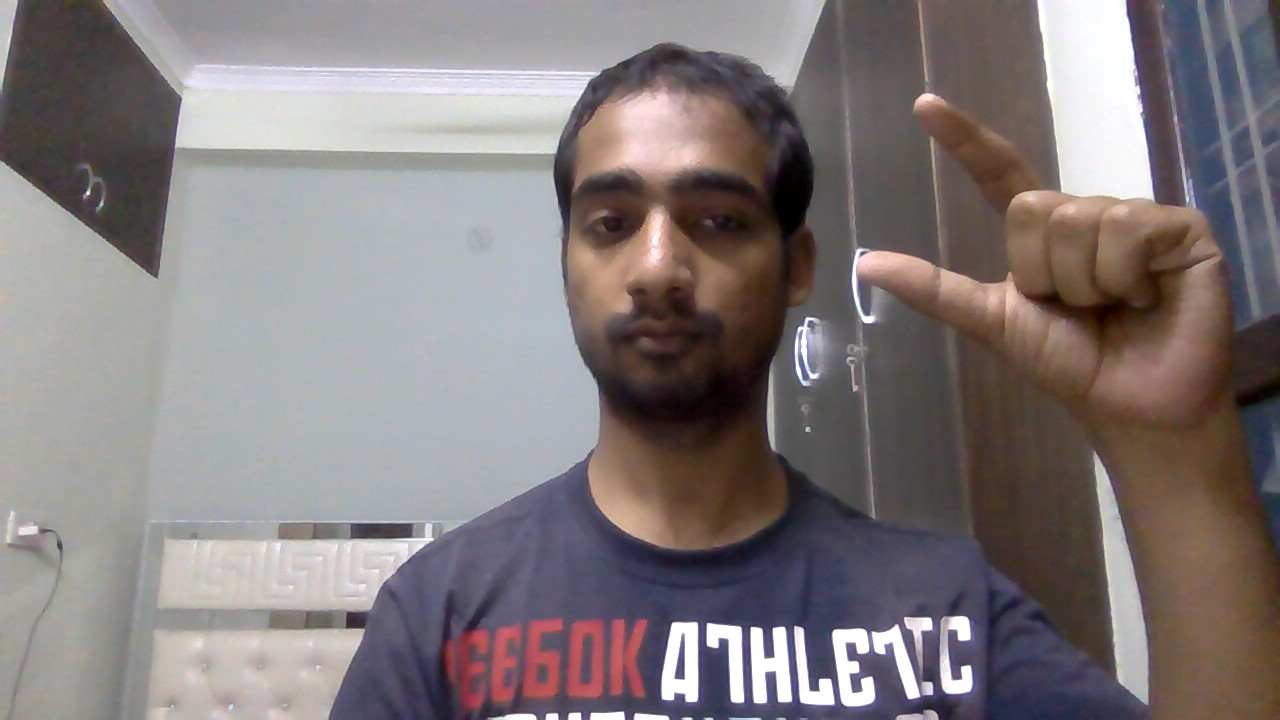Paste: (848, 76, 1250, 451)
